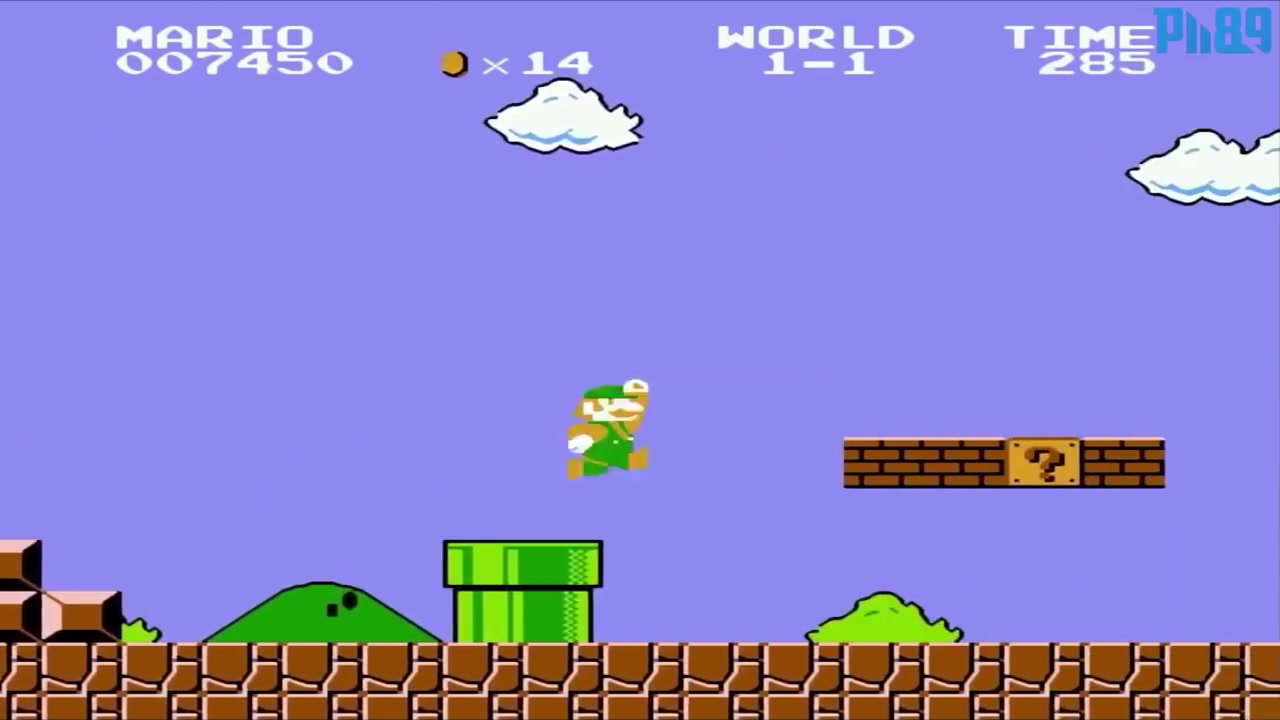mario: (568, 373, 671, 483)
